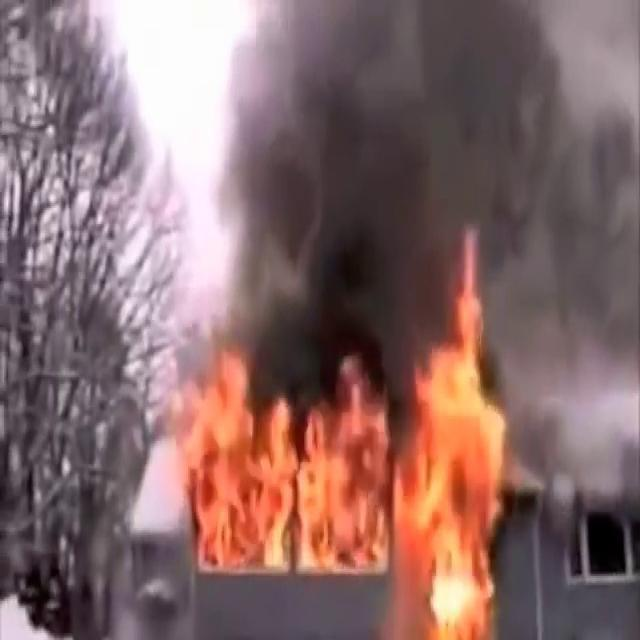Fire: (158, 291, 518, 628)
Smoke: (178, 0, 636, 395)
